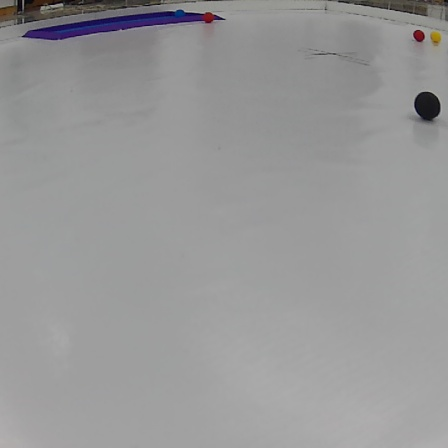black: (411, 90, 444, 119)
blue: (174, 8, 188, 18)
blue_aim: (24, 7, 227, 41)
red: (203, 12, 217, 21), (416, 30, 424, 41)
yellow: (432, 30, 439, 44)
